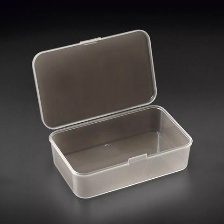plastic_box: (26, 23, 197, 203)
